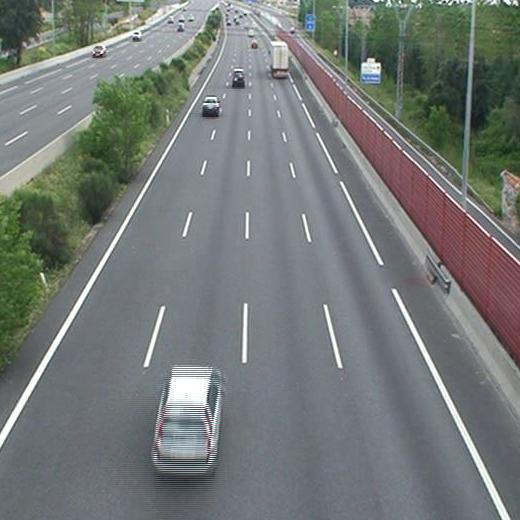car: (153, 366, 220, 472), (202, 97, 219, 113), (232, 69, 245, 85)
truck: (271, 41, 288, 77)
